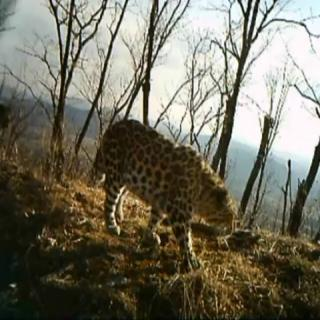Leopard: (78, 94, 249, 275)
